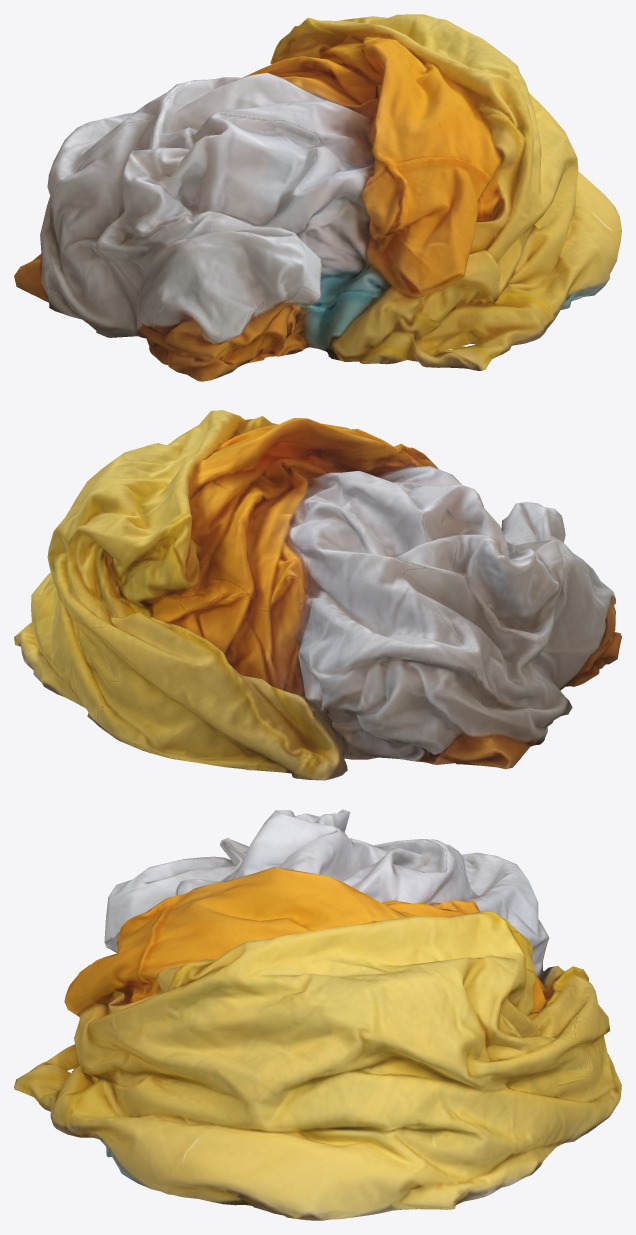
Rendered from pile_of_clothes__lowpoly.glb.
3 views of the same model, one above another, from view 1: azimuth 30°, elevation 25°; view 2: azimuth 150°, elevation 25°; view 3: azimuth 270°, elevation 25° (orthographic). The views are drawn at different scales.
Visible parts, largest first — view 1: clothes; view 2: clothes; view 3: clothes.
Part boxes in pixels (x1,y1,x2,y2): clothes: [14, 14, 621, 381]; clothes: [14, 410, 621, 780]; clothes: [14, 809, 621, 1220].
Size of the model in its own units: 3.37 by 1.33 by 3.13.
Materials: 1 (1 with a texture image).
